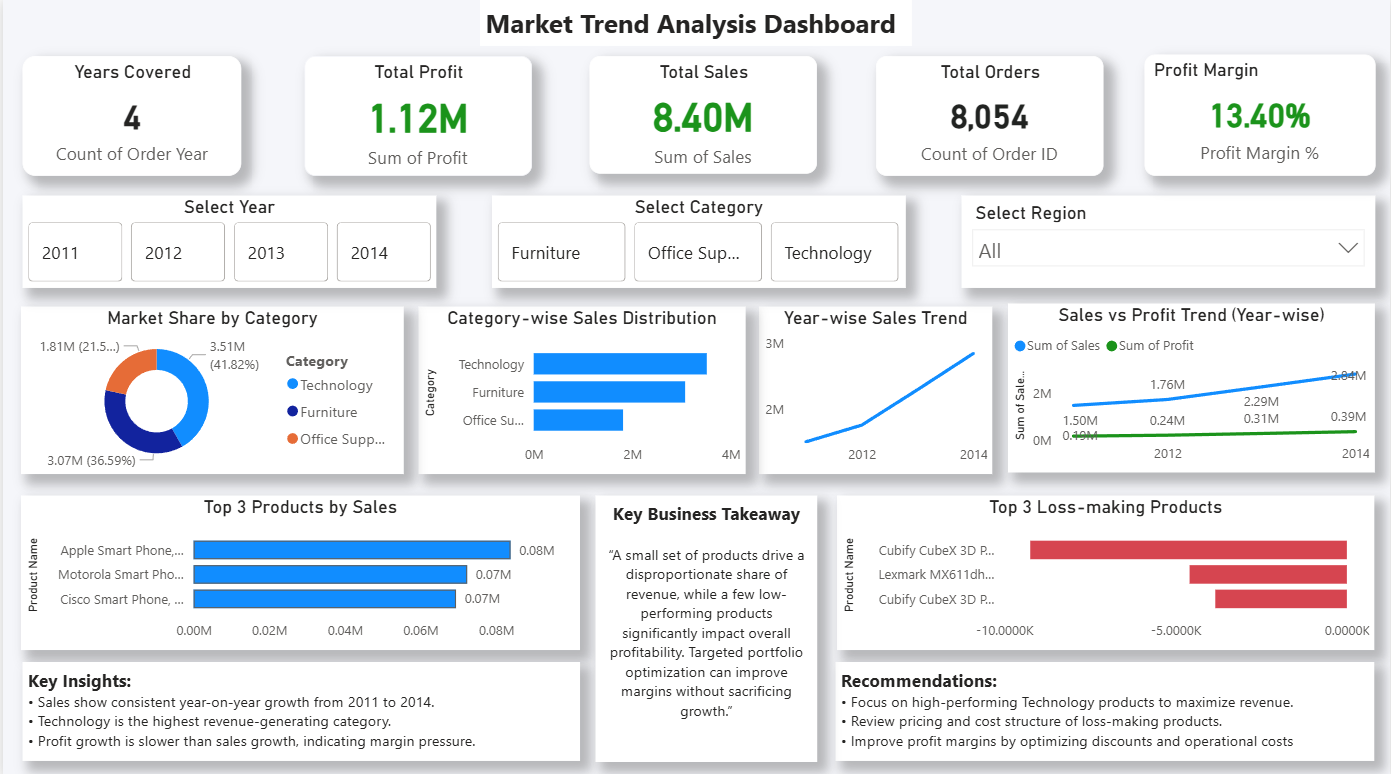

Layout of this report page (visuals, bound fields, positions):
{"tool":"powerbi","page":{"name":"Page 1","canvas":[1280,720],"ordinal":0},"visuals":[{"type":"lineChart","title":"Year-wise Sales Trend","fields":{"Y":["Sum(market_trends global_superstore.Sales)"],"Category":["market_trends global_superstore.Order Year"]},"box":[698.2,283.8,215.5,154.8],"z":0},{"type":"clusteredBarChart","title":"Category-wise Sales Distribution","fields":{"Category":["market_trends global_superstore.Category"],"Y":["Sum(market_trends global_superstore.Sales)"]},"box":[384,283.8,302,154.8],"z":1000},{"type":"donutChart","title":"Market Share by Category","fields":{"Category":["market_trends global_superstore.Category"],"Y":["Sum(market_trends global_superstore.Sales)"]},"box":[16.7,283.8,353.6,154.8],"z":2000},{"type":"card","title":"Total Sales","fields":{"Values":["Sum(market_trends global_superstore.Sales)"]},"box":[541.6,52.1,210,108.9],"z":3000},{"type":"card","title":"Total Profit","fields":{"Values":["Sum(market_trends global_superstore.Profit)"]},"box":[277.9,52.1,210,110.5],"z":4000},{"type":"card","title":"Total Orders","fields":{"Values":["Count(market_trends global_superstore.Order ID)"]},"box":[805.3,52.1,210,110.5],"z":5000},{"type":"card","title":"Years Covered","fields":{"Values":["Count(market_trends global_superstore.Order Year)"]},"box":[17.4,52.1,202.1,110.5],"z":6000},{"type":"advancedSlicerVisual","title":"Select Year","fields":{"Values":["market_trends global_superstore.Order Year"]},"box":[17.4,181.6,382,85.3],"z":7000},{"type":"slicer","fields":{"Values":["market_trends global_superstore.Region"]},"box":[884.2,181.6,382,85.3],"z":8000},{"type":"advancedSlicerVisual","title":"Select Category","fields":{"Values":["market_trends global_superstore.Category"]},"box":[450.8,181.6,382,85.3],"z":9000},{"type":"lineChart","title":"Sales vs Profit Trend (Year-wise)","fields":{"Category":["market_trends global_superstore.Order Year"],"Y":["Sum(market_trends global_superstore.Sales)","Sum(market_trends global_superstore.Profit)"]},"box":[926.7,283.3,340,153.3],"z":10000},{"type":"card","title":"Profit Margin","fields":{"Values":["market_trends global_superstore.Profit Margin %"]},"box":[1053.3,51.7,213.3,111.7],"z":11000},{"type":"clusteredBarChart","title":"Top 3 Products by Sales","fields":{"Category":["market_trends global_superstore.Product Name"],"Y":["Sum(market_trends global_superstore.Sales)"]},"box":[16.7,458.4,516.1,142.7],"z":12000},{"type":"clusteredBarChart","title":"Top 3 Loss-making Products","fields":{"Category":["market_trends global_superstore.Product Name"],"Y":["Sum(market_trends global_superstore.Profit)"]},"box":[769.5,458.4,496.3,142.7],"z":13000},{"type":"textbox","box":[17.4,612.6,514.7,91.6],"z":14000},{"type":"textbox","box":[769,612.6,497.4,91.6],"z":15000},{"type":"textbox","box":[546.4,458.4,204.9,245.9],"z":16000},{"type":"textbox","box":[440.8,0,398.3,43.3],"z":17000}]}

Visuals, with their boxes in screenshot pixels (x1, y1, x2, y2), scaled from the page's 1280x720 canvas onto the 1391x774 screenshot:
"Year-wise Sales Trend" lineChart: bbox(759, 305, 993, 471)
"Category-wise Sales Distribution" clusteredBarChart: bbox(417, 305, 745, 471)
"Market Share by Category" donutChart: bbox(18, 305, 402, 471)
"Total Sales" card: bbox(589, 56, 817, 173)
"Total Profit" card: bbox(302, 56, 530, 175)
"Total Orders" card: bbox(875, 56, 1103, 175)
"Years Covered" card: bbox(19, 56, 239, 175)
"Select Year" advancedSlicerVisual: bbox(19, 195, 434, 287)
slicer - market_trends global_superstore.Region: bbox(961, 195, 1376, 287)
"Select Category" advancedSlicerVisual: bbox(490, 195, 905, 287)
"Sales vs Profit Trend (Year-wise)" lineChart: bbox(1007, 305, 1377, 469)
"Profit Margin" card: bbox(1145, 56, 1376, 176)
"Top 3 Products by Sales" clusteredBarChart: bbox(18, 493, 579, 646)
"Top 3 Loss-making Products" clusteredBarChart: bbox(836, 493, 1376, 646)
textbox: bbox(19, 659, 578, 757)
textbox: bbox(836, 659, 1376, 757)
textbox: bbox(594, 493, 816, 757)
textbox: bbox(479, 0, 912, 47)
